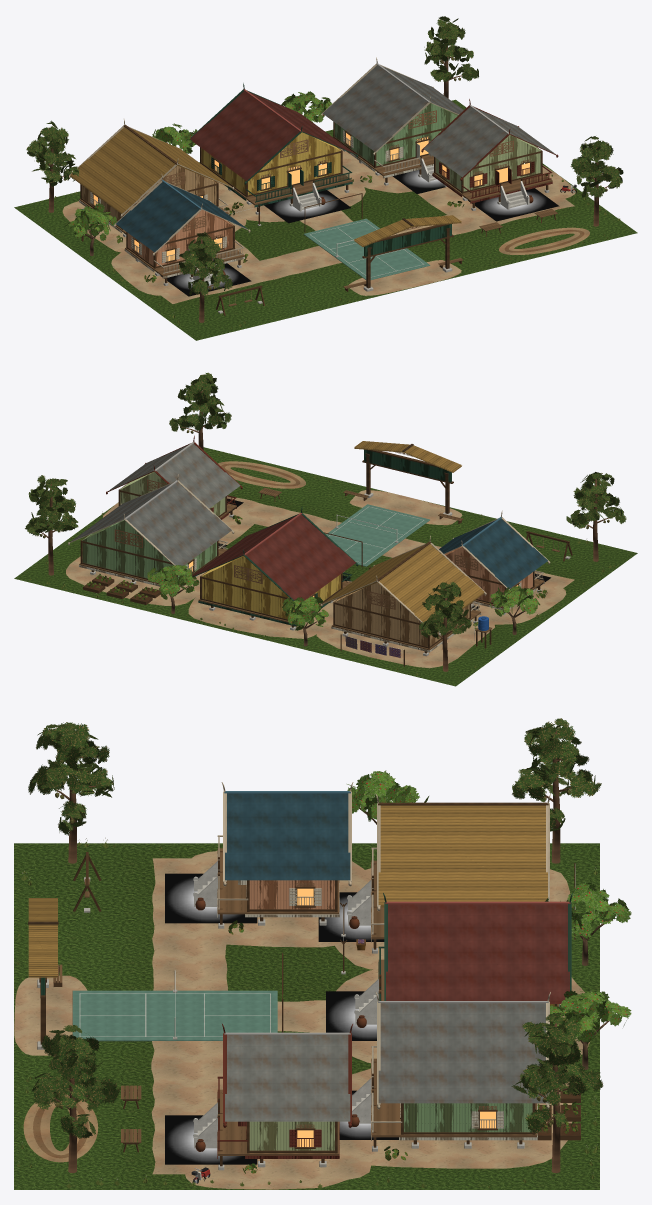
Rendered from LM_ENV_Kampung.glb.
3 views of the same model, one above another, from view 1: azimuth 30°, elevation 25°; view 2: azimuth 150°, elevation 25°; view 3: azimuth 270°, elevation 25° (orthographic). The views are drawn at different scales.
Parts seen in each view (by area): view 1: kampung | Ground lawn, kampung | Kampung zinc, kampung | Ground halaman, kampung | Kampung papan, kampung | Kampung timber, kampung | Kampung foliage, kampung | Kampung attap, kampung | Kampung concrete, kampung | Night wash lamp, kampung | Kampung kerawang, kampung | Night glow window, kampung | Kampung zinc cap; view 2: kampung | Kampung zinc, kampung | Ground lawn, kampung | Kampung papan, kampung | Ground halaman, kampung | Kampung foliage, kampung | Kampung timber, kampung | Kampung attap, kampung | Kampung concrete, kampung | Kampung kerawang, kampung | Kampung zinc cap, kampung | Kampung batik sarong, kampung | Kampung painted; view 3: kampung | Kampung zinc, kampung | Ground lawn, kampung | Ground halaman, kampung | Kampung foliage, kampung | Kampung attap, kampung | Kampung timber, kampung | Kampung concrete, kampung | Kampung papan, kampung | Night wash lamp, kampung | Kampung zinc cap, kampung | Kampung painted, kampung | Night glow window.
Part boxes in pixels (bbox=[...]): kampung | Ground lawn: bbox=[14, 99, 637, 340]; kampung | Kampung zinc: bbox=[116, 65, 554, 252]; kampung | Ground halaman: bbox=[62, 148, 589, 303]; kampung | Kampung papan: bbox=[79, 103, 552, 278]; kampung | Kampung timber: bbox=[48, 24, 608, 322]; kampung | Kampung foliage: bbox=[26, 16, 623, 328]; kampung | Kampung attap: bbox=[70, 127, 461, 246]; kampung | Kampung concrete: bbox=[108, 150, 549, 313]; kampung | Night wash lamp: bbox=[160, 170, 559, 296]; kampung | Kampung kerawang: bbox=[135, 110, 530, 250]; kampung | Night glow window: bbox=[93, 133, 529, 261]; kampung | Kampung zinc cap: bbox=[161, 63, 508, 209]; kampung | Kampung zinc: bbox=[71, 443, 547, 600]; kampung | Ground lawn: bbox=[14, 447, 637, 686]; kampung | Kampung papan: bbox=[79, 449, 544, 652]; kampung | Ground halaman: bbox=[66, 461, 574, 668]; kampung | Kampung foliage: bbox=[25, 372, 626, 676]; kampung | Kampung timber: bbox=[41, 381, 609, 671]; kampung | Kampung attap: bbox=[323, 441, 484, 623]; kampung | Kampung concrete: bbox=[90, 493, 570, 656]; kampung | Kampung kerawang: bbox=[114, 452, 517, 609]; kampung | Kampung zinc cap: bbox=[125, 442, 502, 555]; kampung | Kampung batik sarong: bbox=[345, 636, 400, 657]; kampung | Kampung painted: bbox=[40, 424, 609, 649]; kampung | Kampung zinc: bbox=[225, 793, 569, 1121]; kampung | Ground lawn: bbox=[14, 843, 599, 1189]; kampung | Ground halaman: bbox=[14, 851, 590, 1189]; kampung | Kampung foliage: bbox=[16, 718, 631, 1188]; kampung | Kampung attap: bbox=[28, 805, 547, 977]; kampung | Kampung timber: bbox=[28, 729, 611, 1173]; kampung | Kampung concrete: bbox=[37, 861, 524, 1170]; kampung | Kampung papan: bbox=[41, 850, 559, 1158]; kampung | Night wash lamp: bbox=[165, 873, 398, 1164]; kampung | Kampung zinc cap: bbox=[224, 791, 570, 1034]; kampung | Kampung painted: bbox=[55, 782, 575, 1183]; kampung | Night glow window: bbox=[297, 888, 495, 1146].
Size of the model in its own units: 59.13 by 12.43 by 42.6.
Materials: 19 (15 with a texture image).
